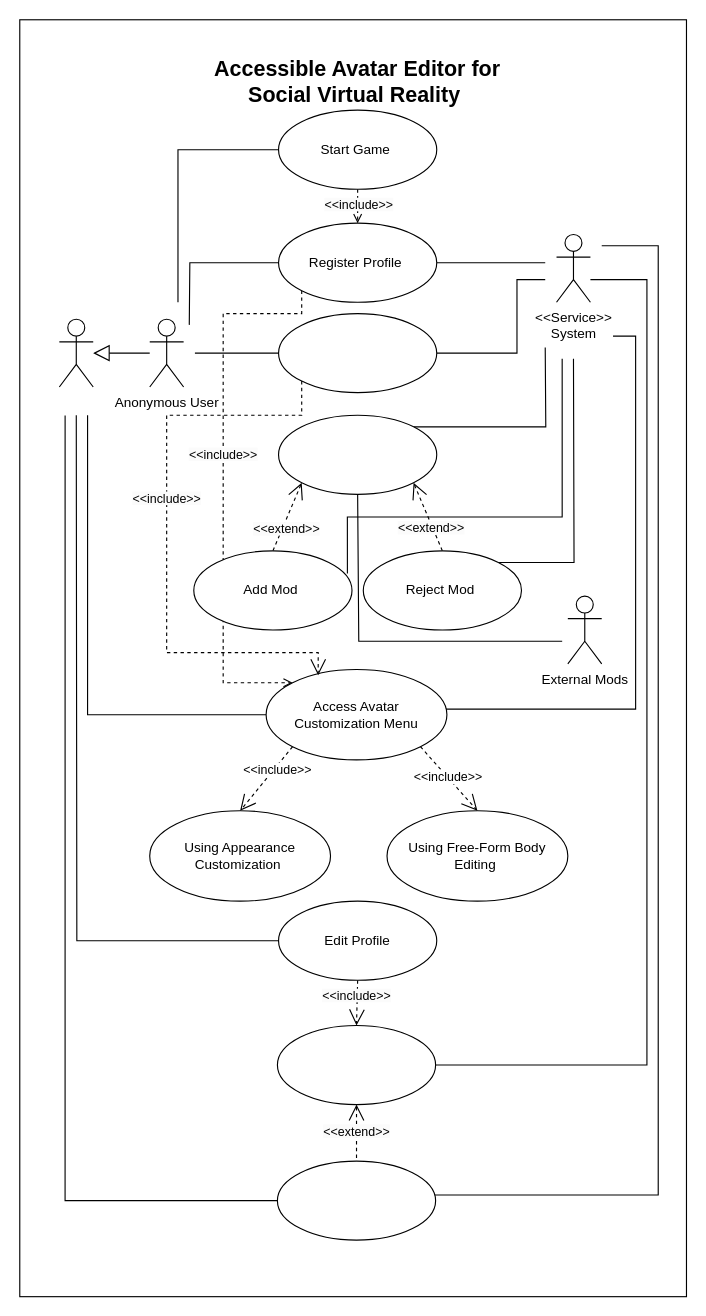
The diagram is 706 pixels wide and 1316 high, and some of its shapes have lost their labels. Each missing label, with the centre of its shape:
"Load Mods" goes at (x=357, y=454).
"Load Profile" goes at (x=357, y=352).
"Player" goes at (x=75, y=352).
"Save Model with Settings" goes at (x=356, y=1200).
"Update and Save Profile" goes at (x=356, y=1064).
